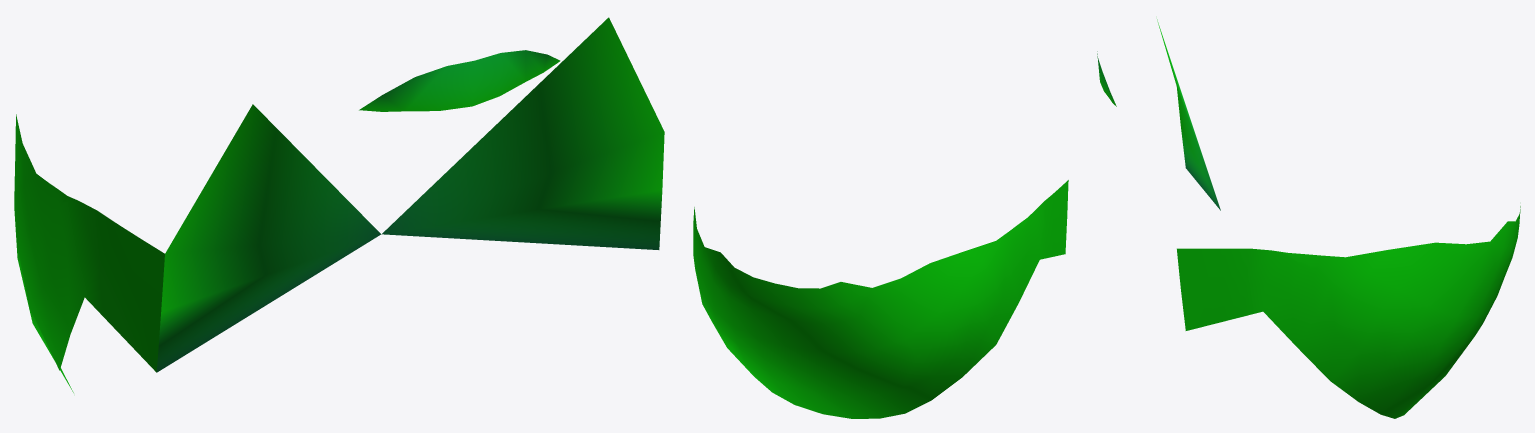
Rendered from Hair2_49.glb.
3 views of the same model, side by side, from view 1: azimuth 30°, elevation 25°; view 2: azimuth 150°, elevation 25°; view 3: azimuth 270°, elevation 25° (orthographic). The views are drawn at different scales.
Bounding box in the file's own units: 52.64 × 48.84 × 54.78.
